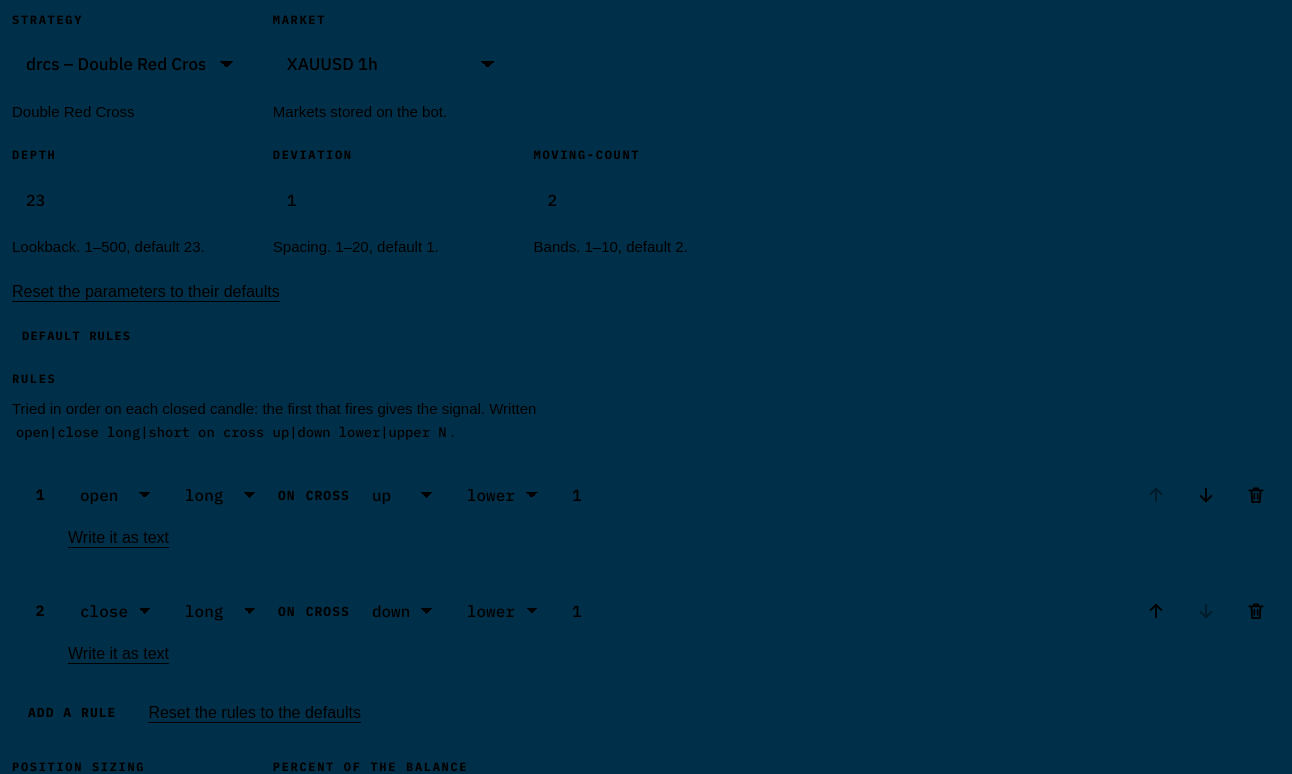
the strategy and its parameters › switching strategy brings its parameters and rules
This screenshot has width=1292, height=774.
Select "momentum – Momentum" in the dropdown labelled "Strategy". click: (130, 65)
box: [12,39,249,91]
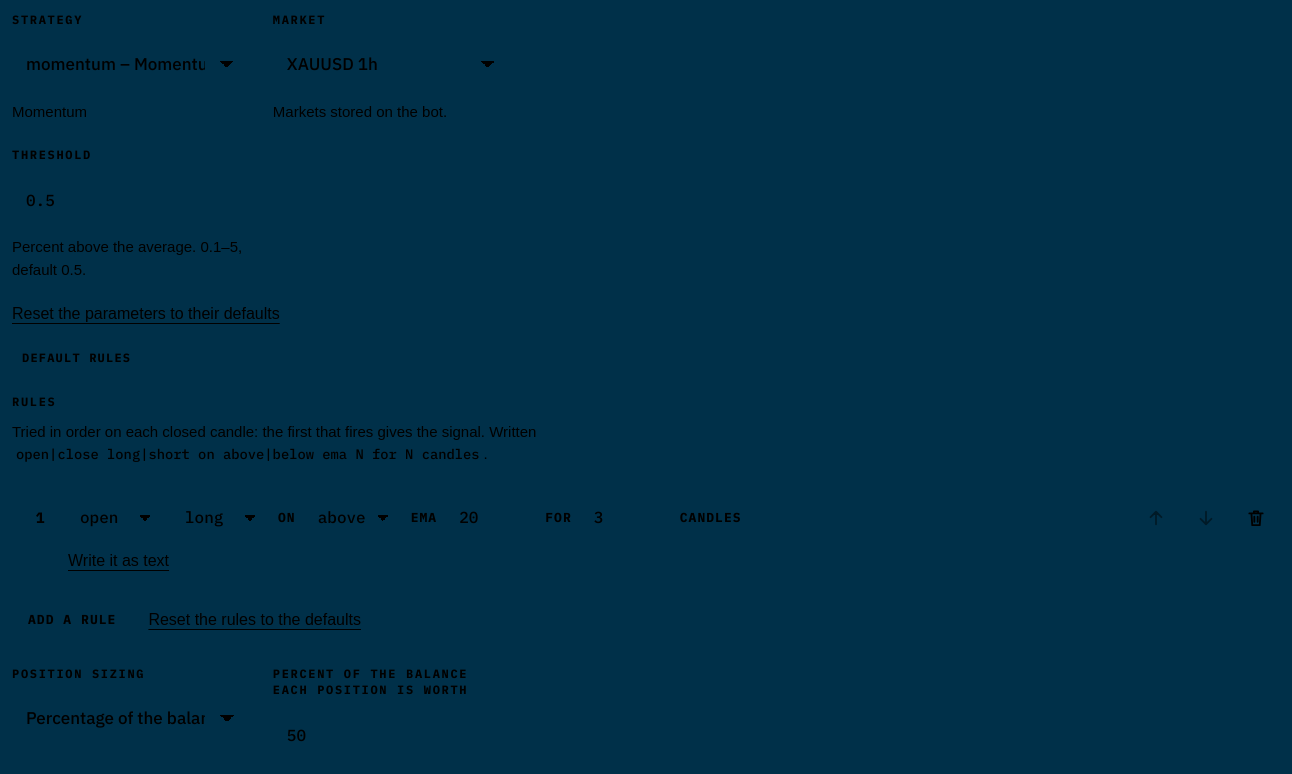
Expected: the label labelled "depth" is gone
